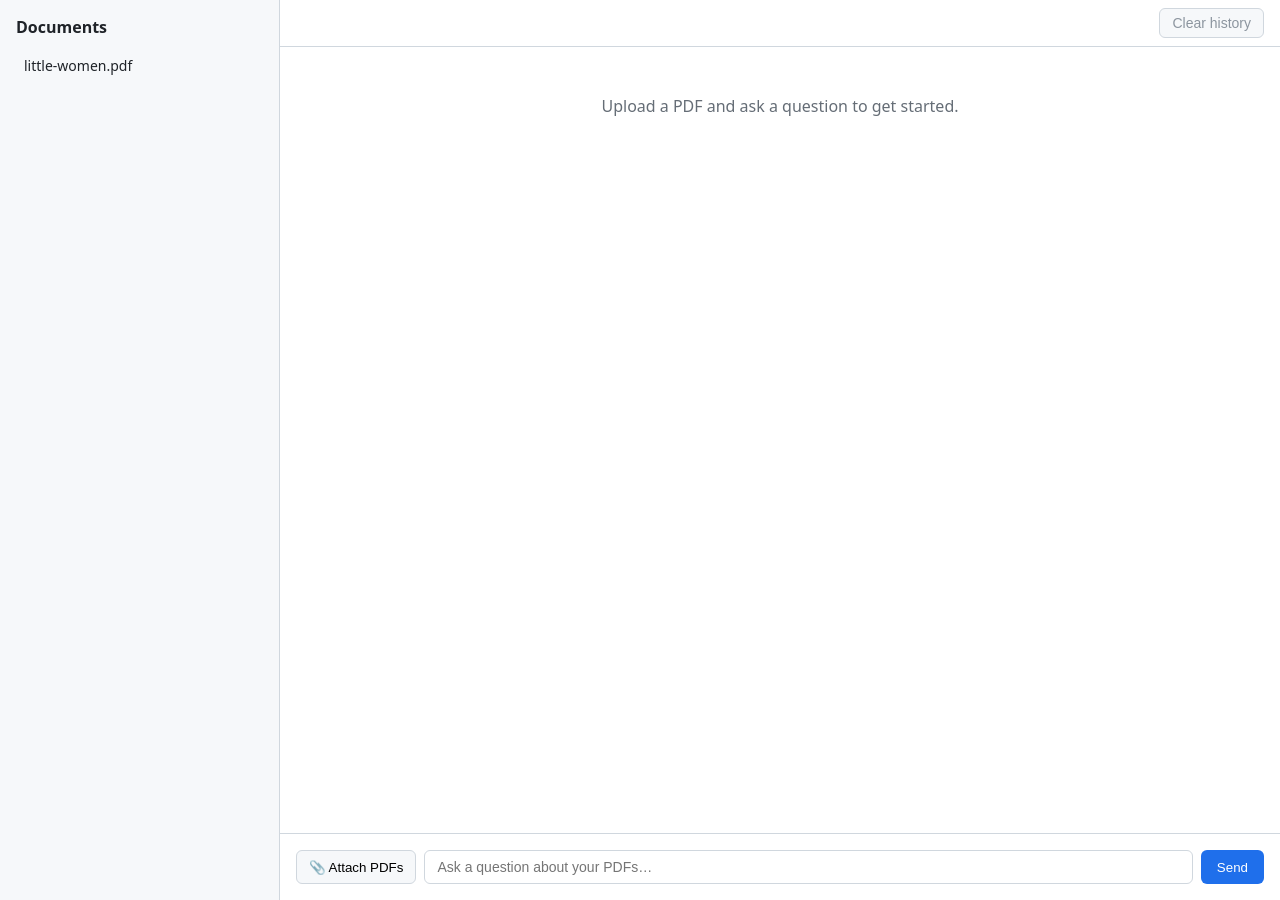
Test: Chat Q&A view › shows the backend error message when the ask fails
The image size is (1280, 900).
expect the list item "little-women.pdf" is shown: met, box top-left (24, 56), bottom-right (132, 75)
Type "Where does Jo first appear?" into the field labelled "question" at (809, 867), box top-left (424, 850), bottom-right (1193, 884)
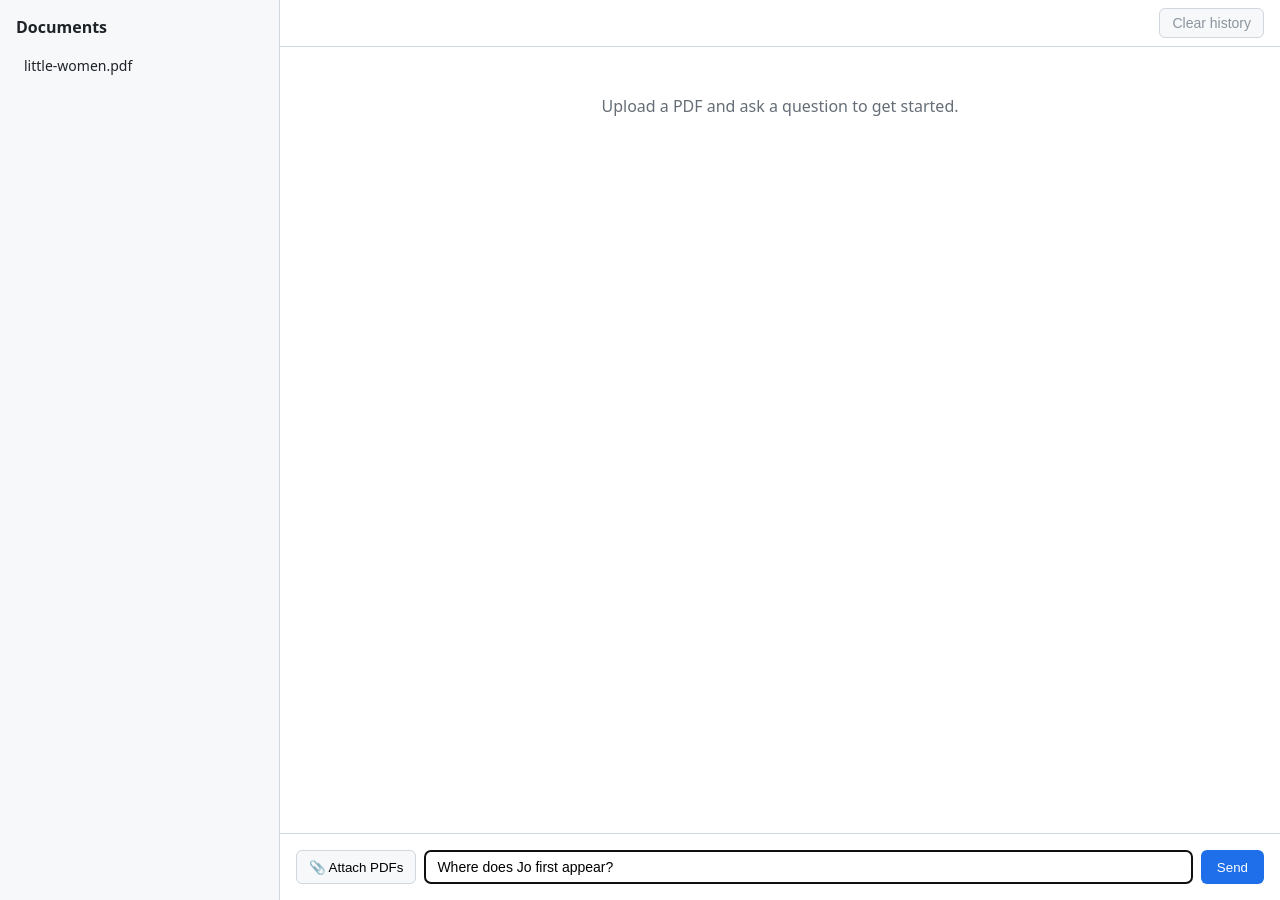
Click the button "Send" at (1232, 867), box top-left (1201, 850), bottom-right (1264, 884)
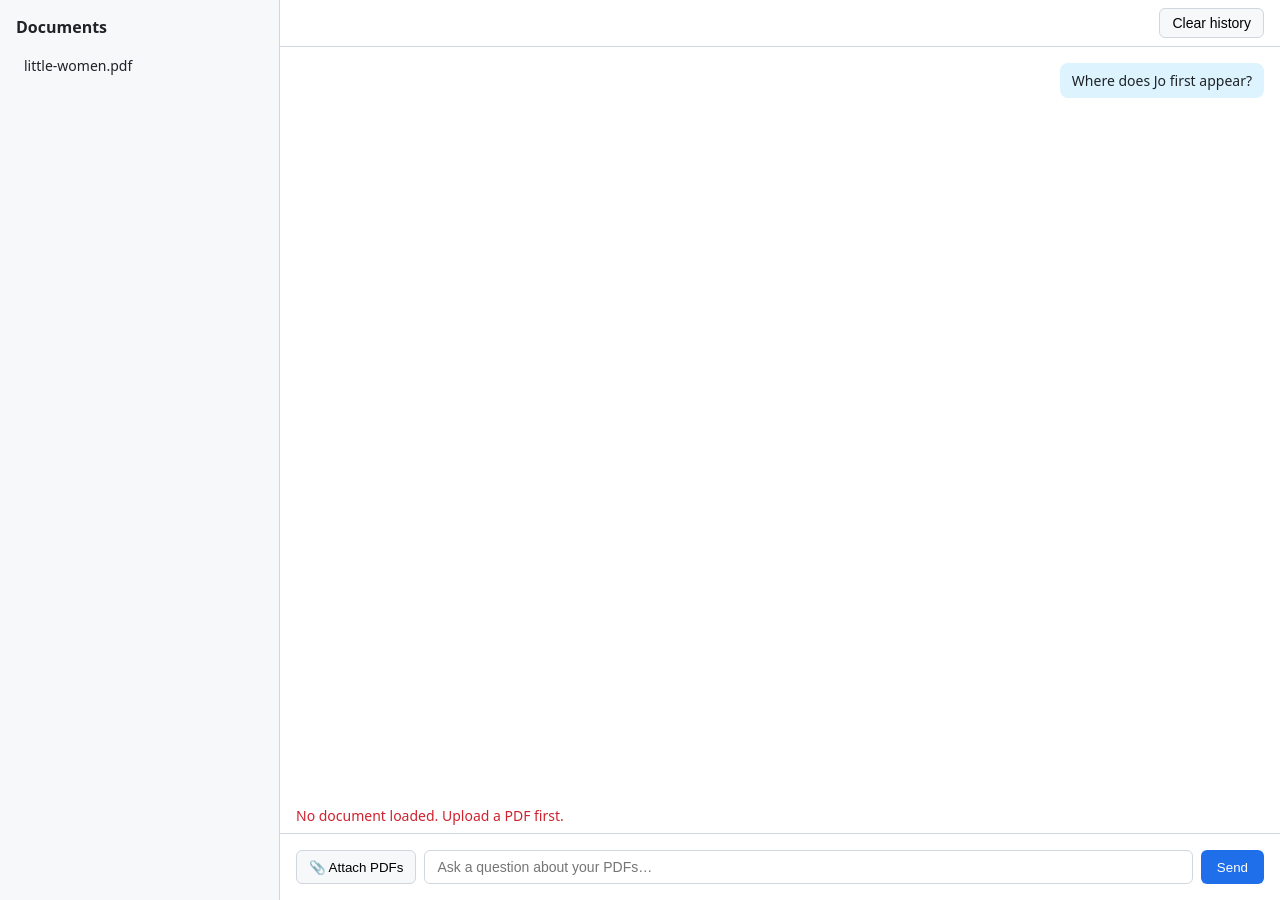
expect the message reads "No document loaded. Upload a PDF first.": met, box top-left (296, 806), bottom-right (564, 825)
expect the list item "Where does Jo first appear?" is shown: met, box top-left (1060, 63), bottom-right (1264, 98)
